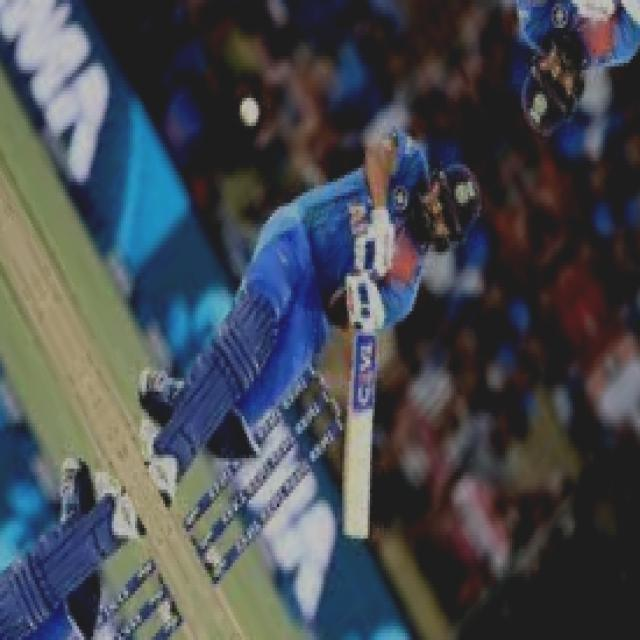toe: (339, 520, 370, 543)
